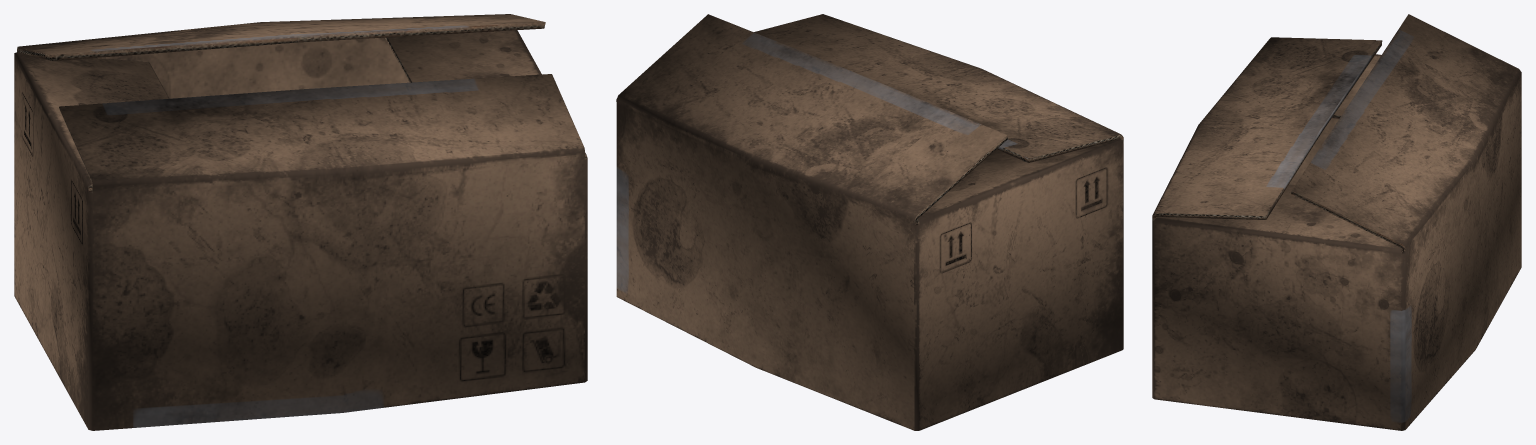
3 views of the same model, side by side, from view 1: azimuth 30°, elevation 25°; view 2: azimuth 150°, elevation 25°; view 3: azimuth 270°, elevation 25° (orthographic). The views are drawn at different scales.
Parts seen in each view (by area): view 1: Cube.001_Cardboard2_0; view 2: Cube.001_Cardboard2_0; view 3: Cube.001_Cardboard2_0.
Boxes of the visible parts, <box> form: Cube.001_Cardboard2_0: <box>14,14,587,430</box>; Cube.001_Cardboard2_0: <box>616,14,1123,430</box>; Cube.001_Cardboard2_0: <box>1152,14,1521,430</box>.
Bounding box in the file's own units: 1.56 × 0.8832 × 1.24.
Materials: 1 (1 with a texture image).
